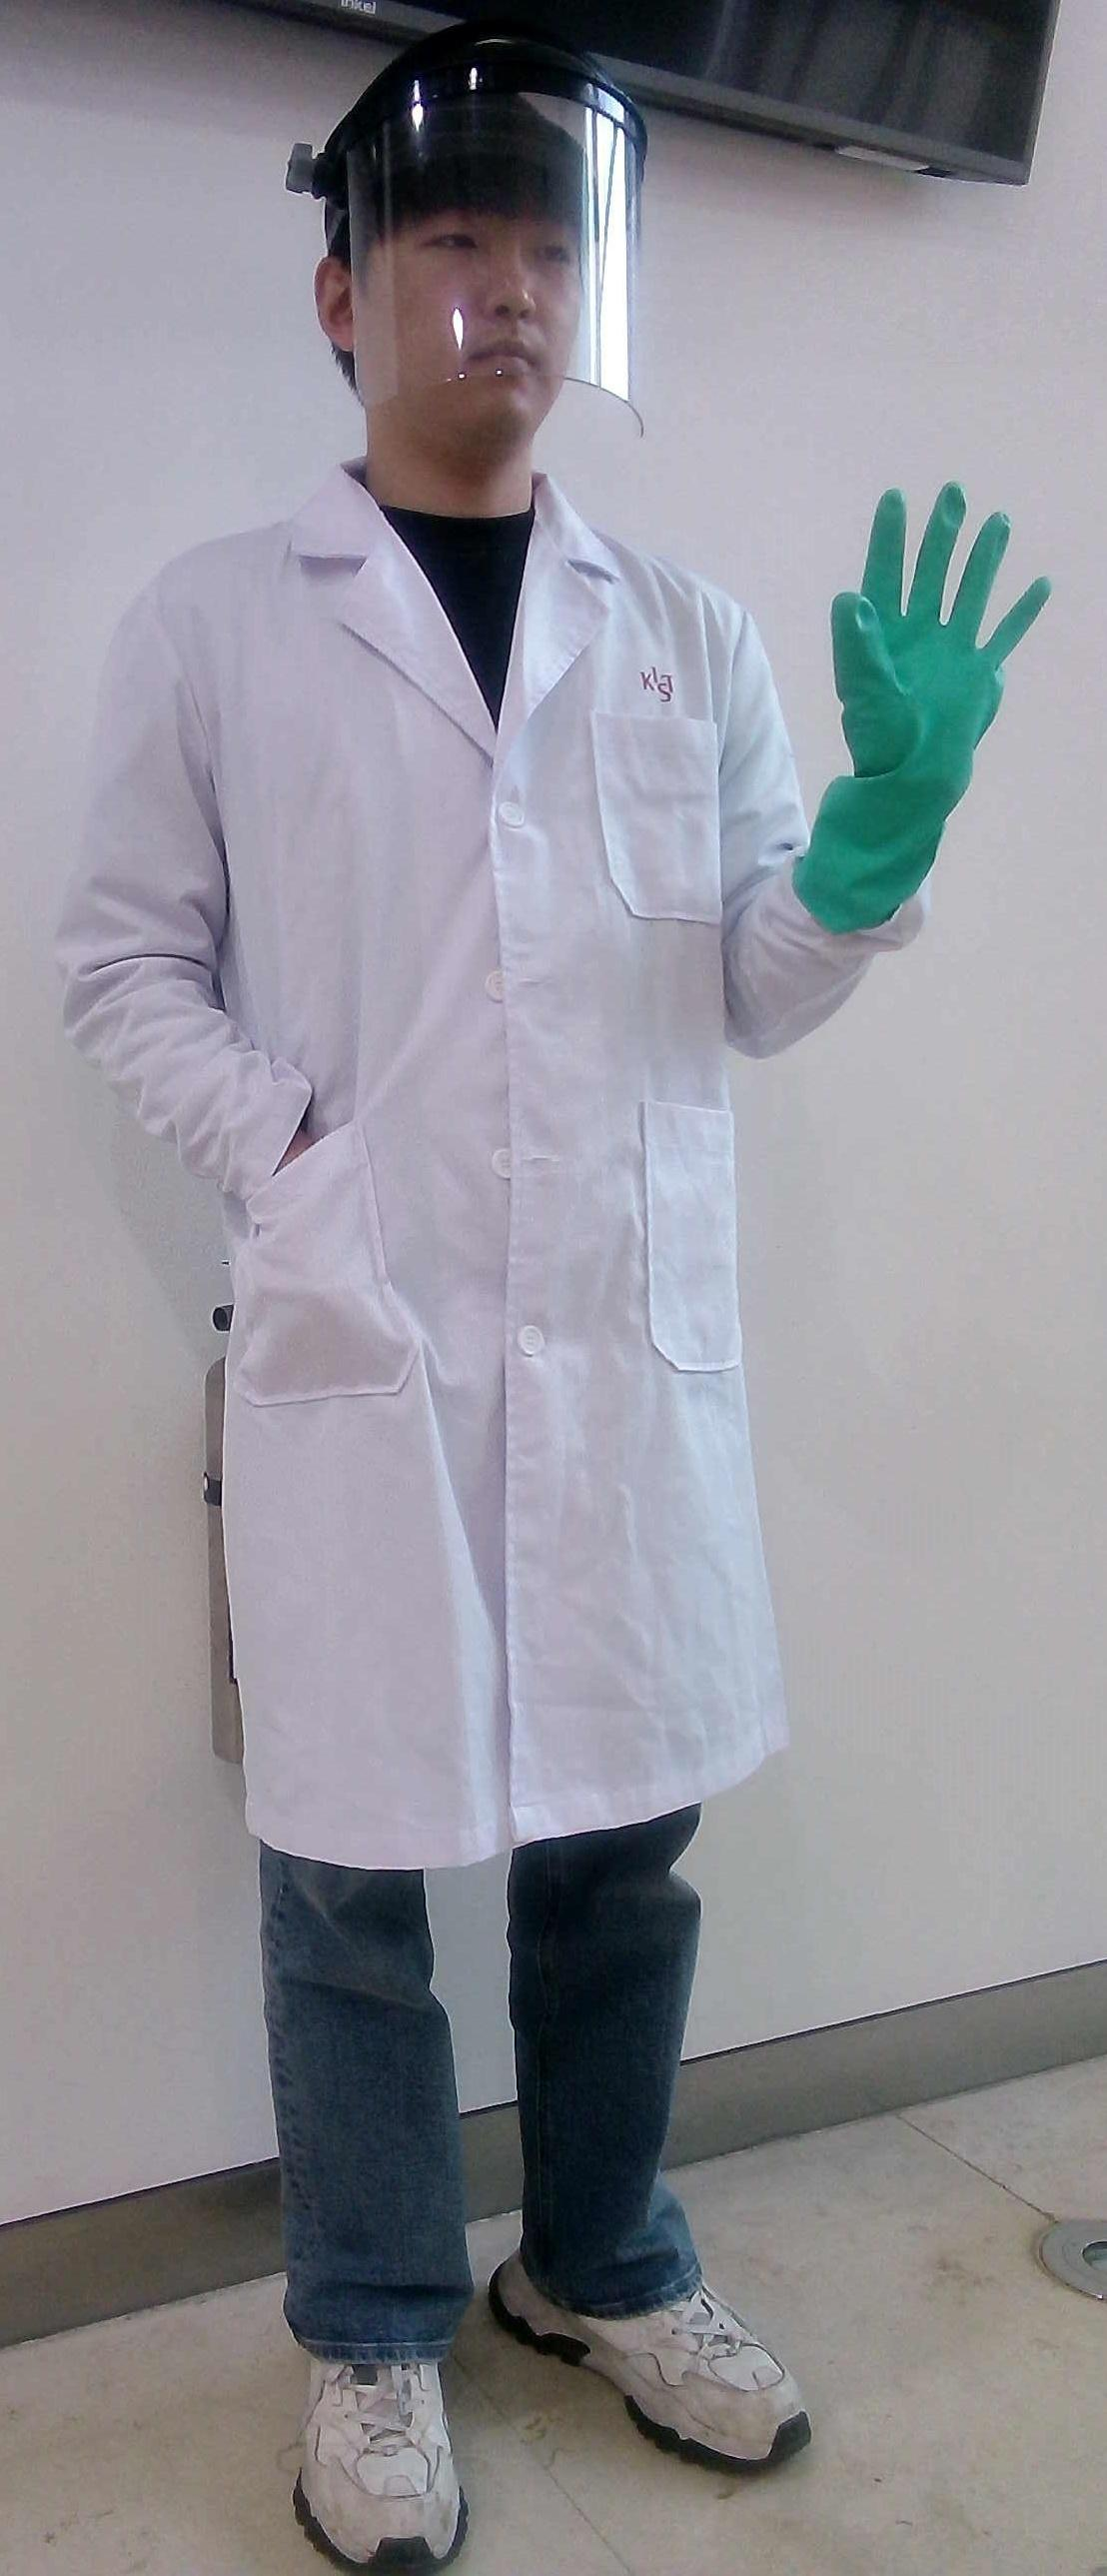lab_coat: (61, 526, 783, 1801)
